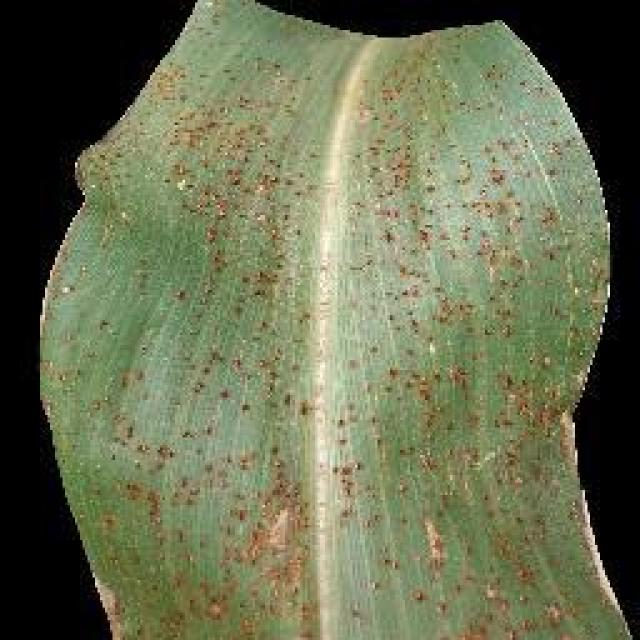Corn Common Rust: (70, 113, 558, 605)
